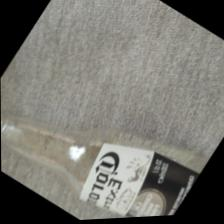glass: (0, 63, 223, 223)
